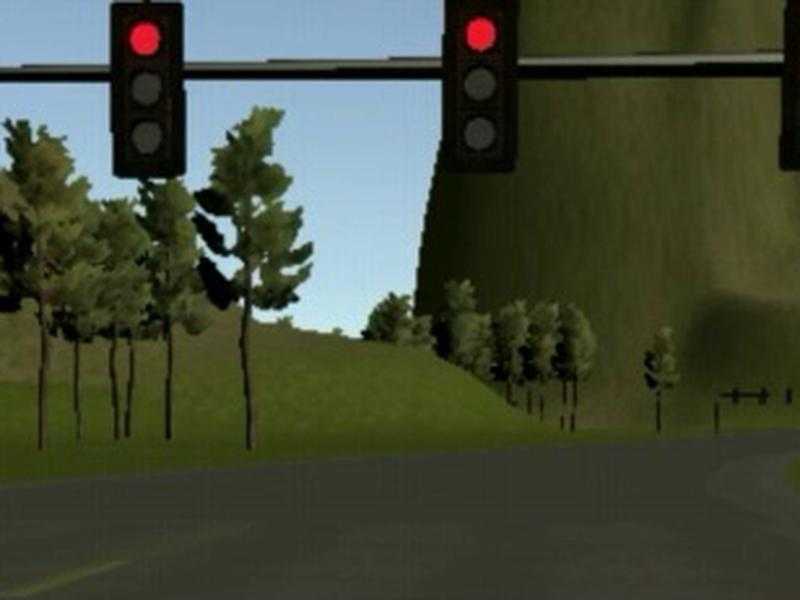Red: (113, 1, 186, 177), (444, 1, 520, 167)
